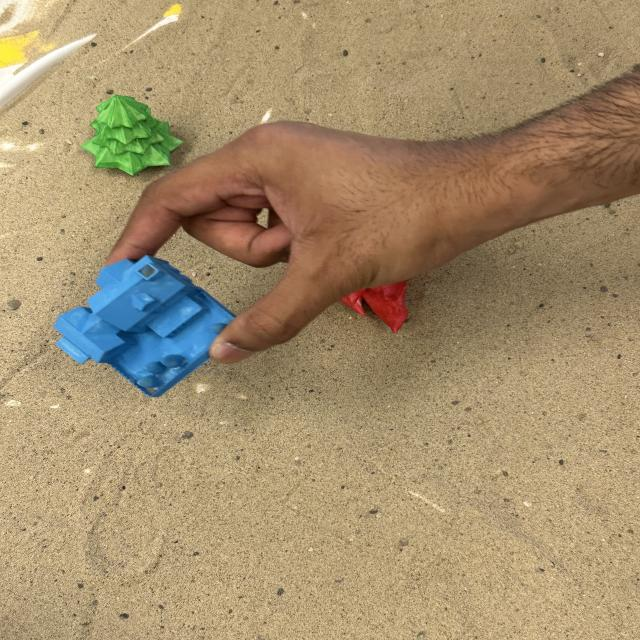fire: (339, 279, 411, 334)
house: (52, 254, 238, 398)
tree: (79, 92, 184, 176)
